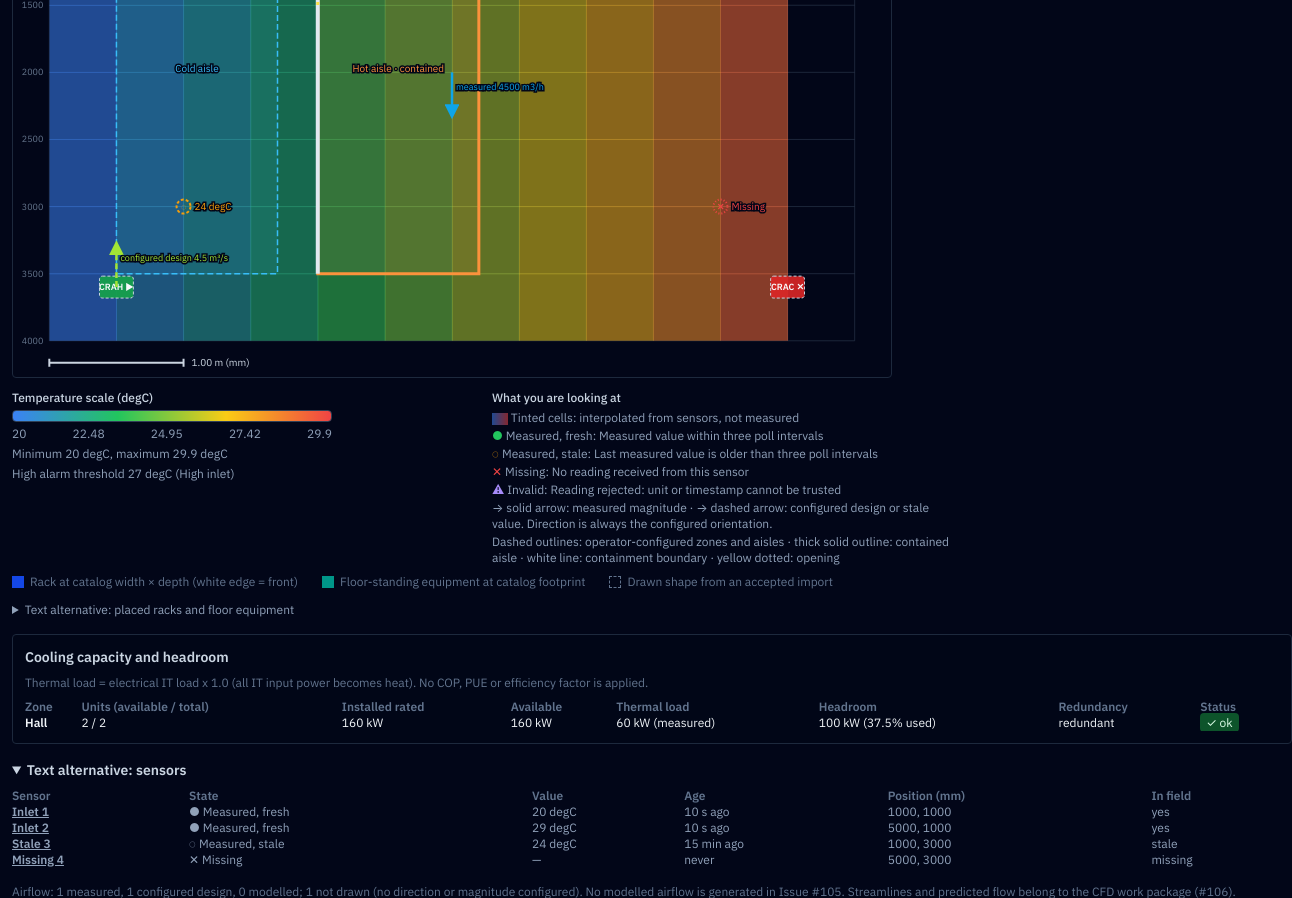
CoolingEnvironmentPanel › offers a text alternative table of every sensor, keyboard operable
(page scrolled)
Expected: the row that starts with "Stale 3" shows "◌ Measured, stale", 12,836 -> 1291,852
Expected: the row that starts with "Stale 3" shows "15 min ago", 684,836 -> 744,851
Click the button "Inlet 1".
click(30, 812)  # box 12,804 -> 49,820
(page scrolled)
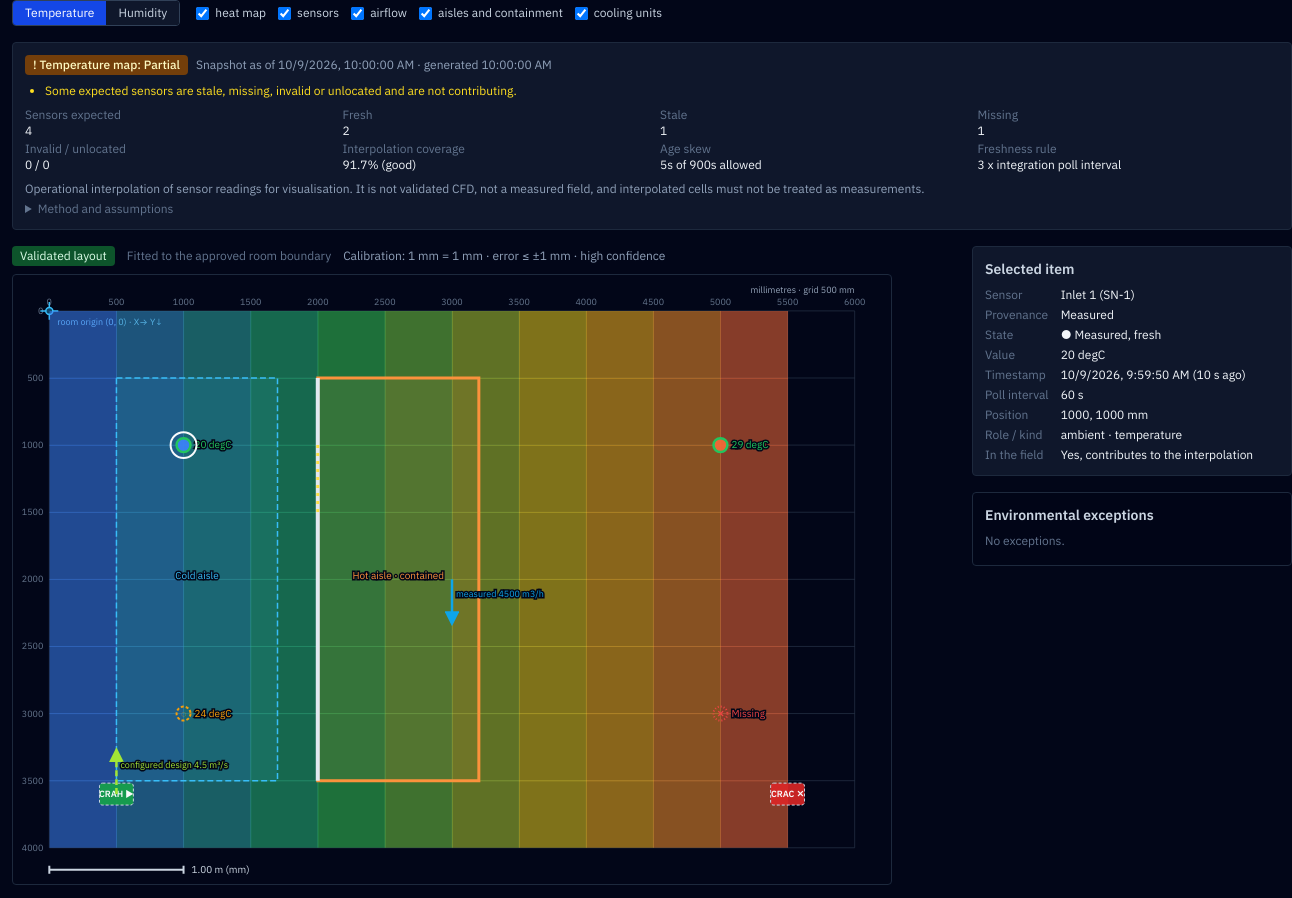
Now the element with test id "detail-sensor" shows "Inlet 1", box 1061,287 -> 1096,302
